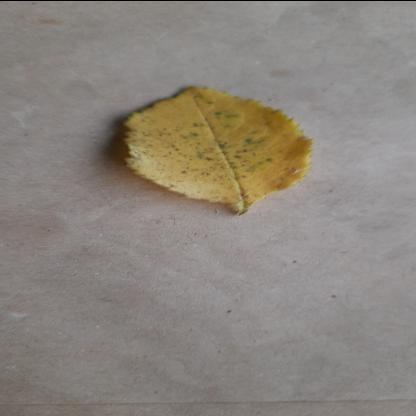black-spot: (115, 82, 313, 204)
